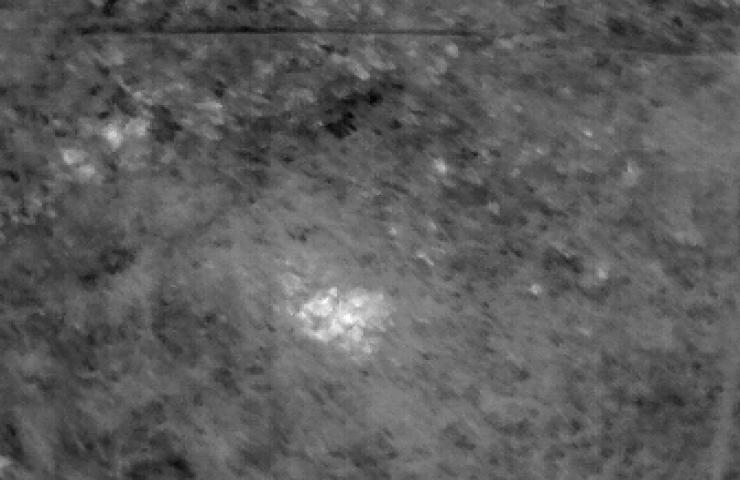landmines: (285, 278, 396, 360)
